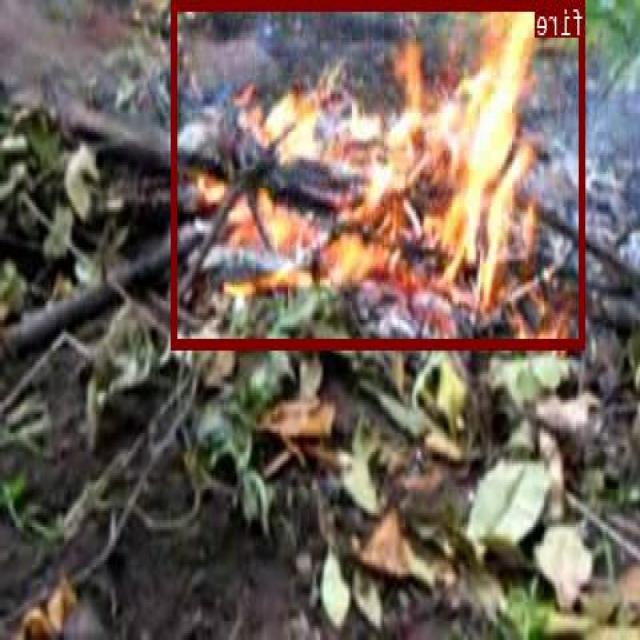fire: (173, 0, 586, 346)
